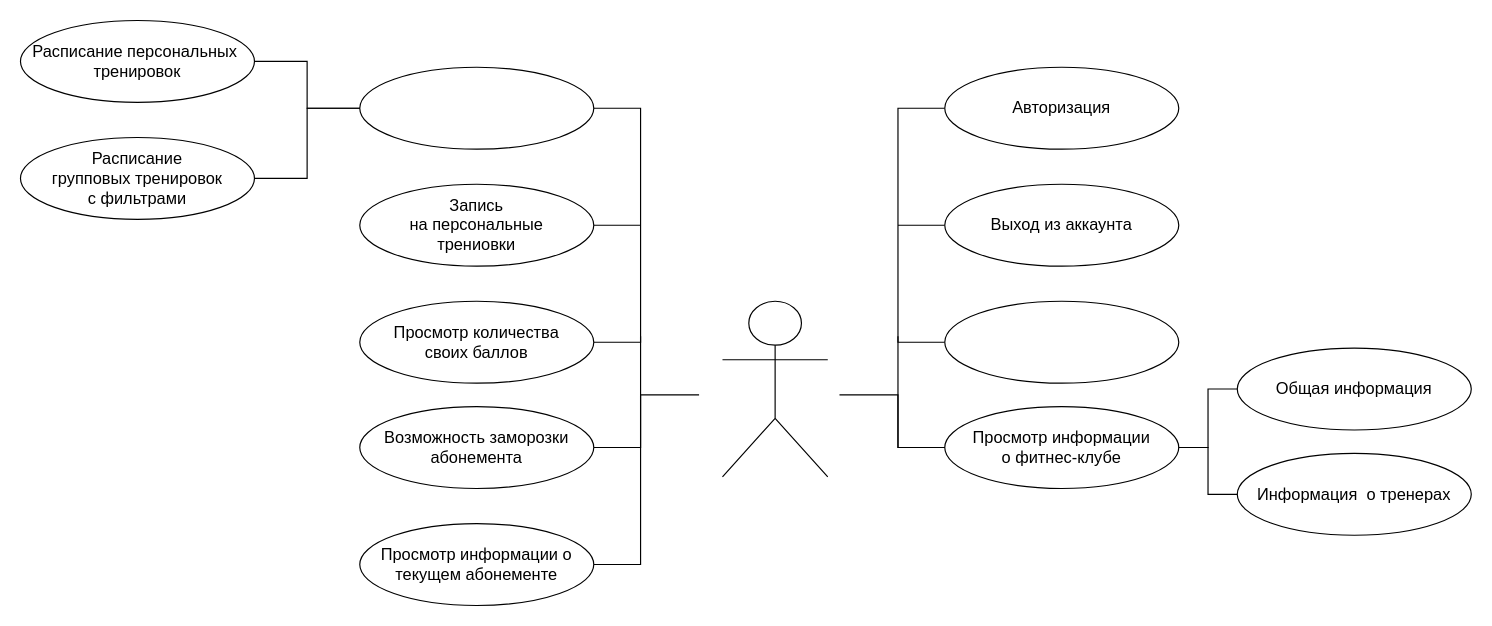
Image size: 1492x626. Some labels were removed from this diagram. Here are the shapes that lost their labels. From the top down, the centre of each, then its label:
At (x=476, y=107): "Просмотр расписания".
At (x=1061, y=341): "Изменение личной информации".
At (x=774, y=388): "Клиент".
